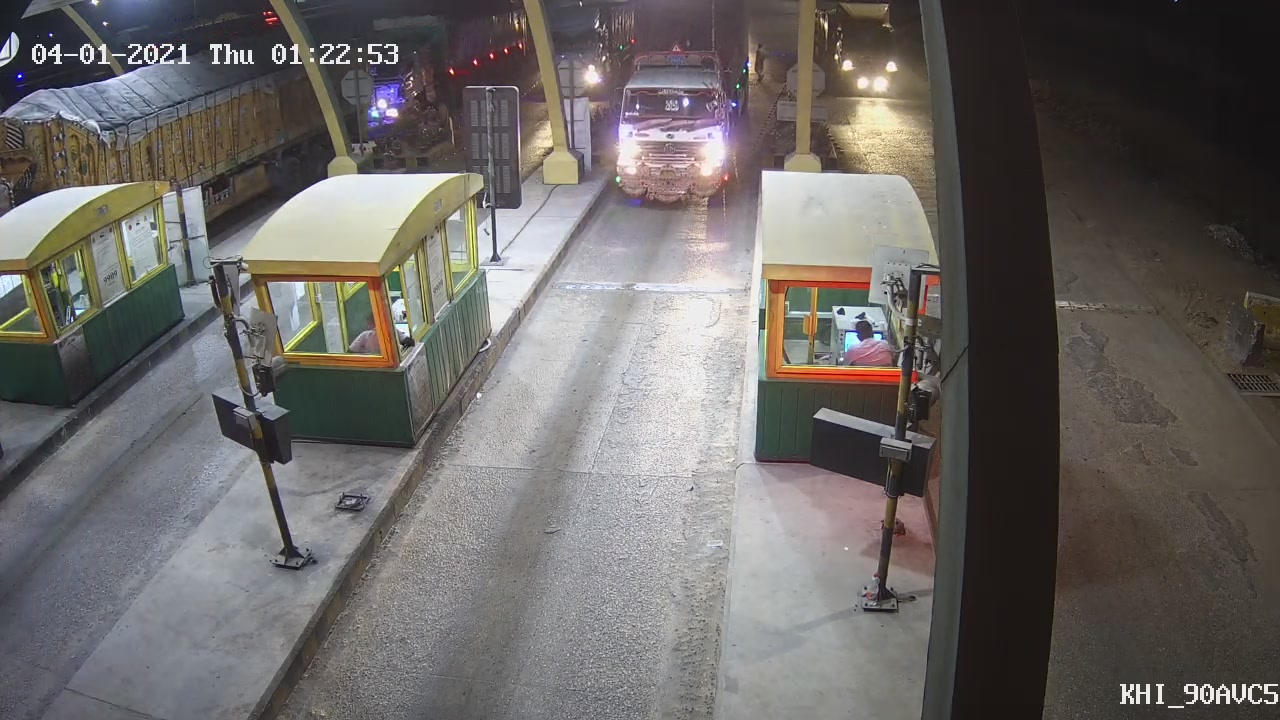F5: (611, 3, 743, 213)
